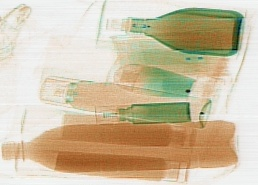pressure: (38, 75, 211, 128)
